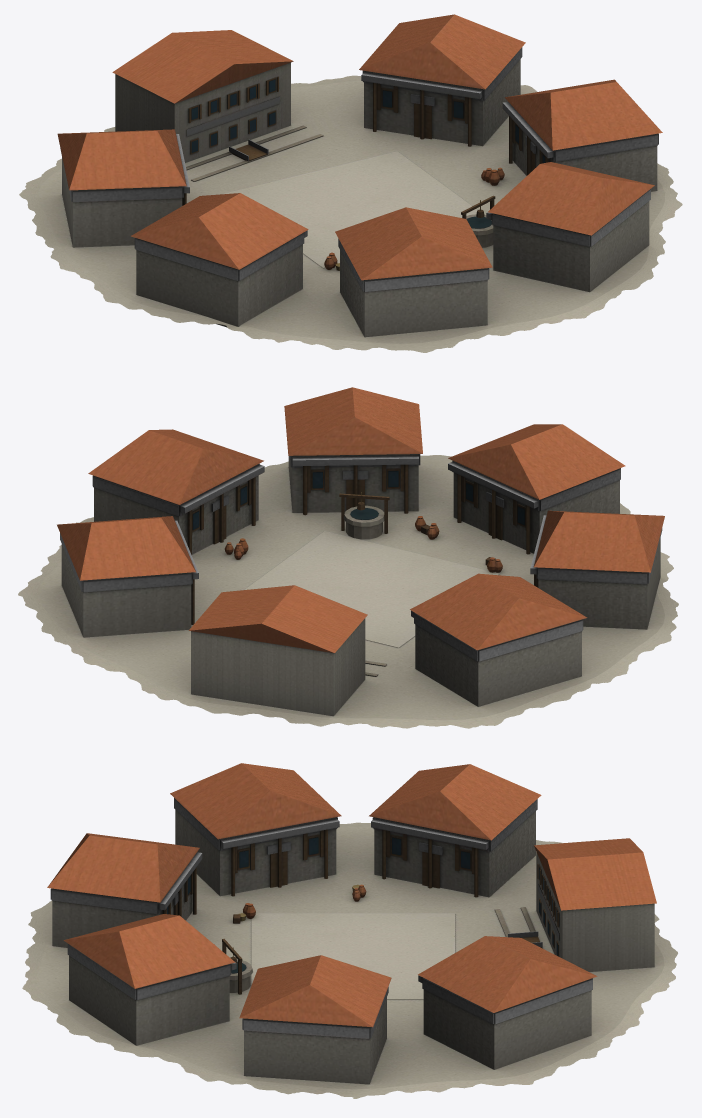
The model's file is gunpowder-town-small-b-monsoon.glb.
3 views of the same model, one above another, from view 1: azimuth 30°, elevation 25°; view 2: azimuth 150°, elevation 25°; view 3: azimuth 270°, elevation 25° (orthographic).
Parts seen in each view (by area): view 1: LOD0; view 2: LOD0; view 3: LOD0.
Boxes of the visible parts, bbox=[...] form: LOD0: bbox=[19, 14, 682, 352]; LOD0: bbox=[18, 387, 678, 728]; LOD0: bbox=[22, 763, 677, 1098].
Size of what is drawn, in the model's own units: 3.95 by 0.598 by 3.98.
3 materials, 3 textured.
